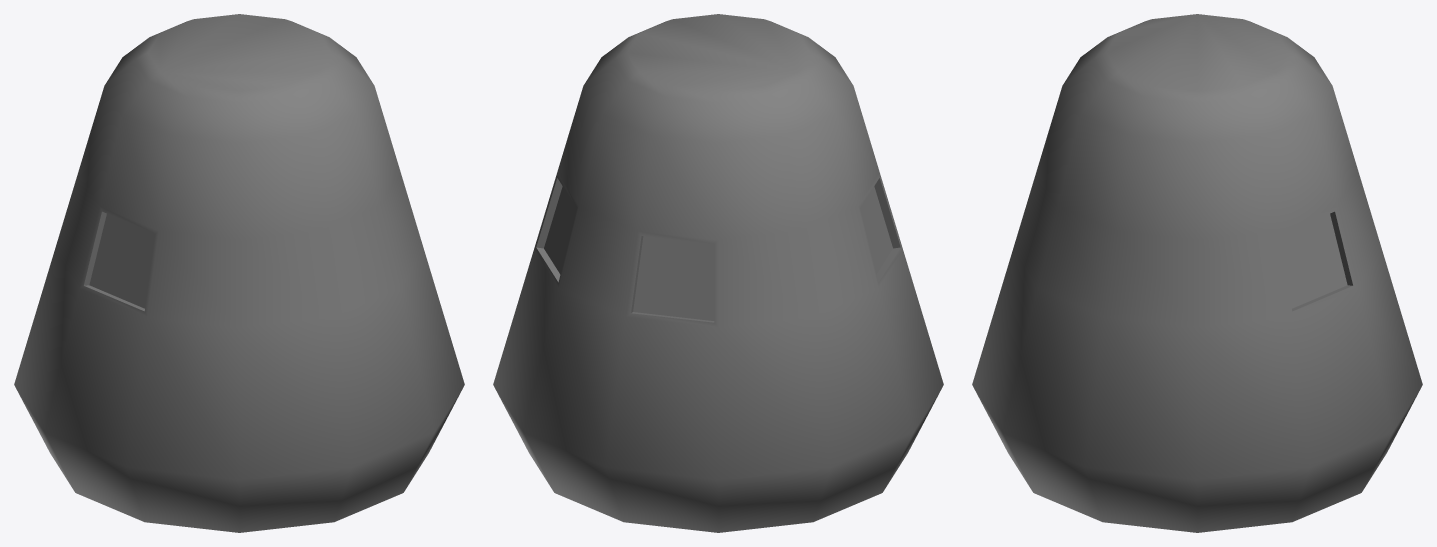
The model's file is Module_Mesh_1.fbx.
The picture shows the model from 3 angles, left to right: view 1: azimuth 30°, elevation 25°; view 2: azimuth 150°, elevation 25°; view 3: azimuth 270°, elevation 25°; orthographic projection.
Visible parts, largest first — view 1: Module_Mesh; view 2: Module_Mesh; view 3: Module_Mesh.
Boxes of the visible parts, <box> form: Module_Mesh: <box>14,14,464,532</box>; Module_Mesh: <box>493,14,943,532</box>; Module_Mesh: <box>972,14,1422,532</box>.
Bounding box in the file's own units: 21.56 × 21.76 × 21.56.
Materials: 1 (1 with a texture image).
